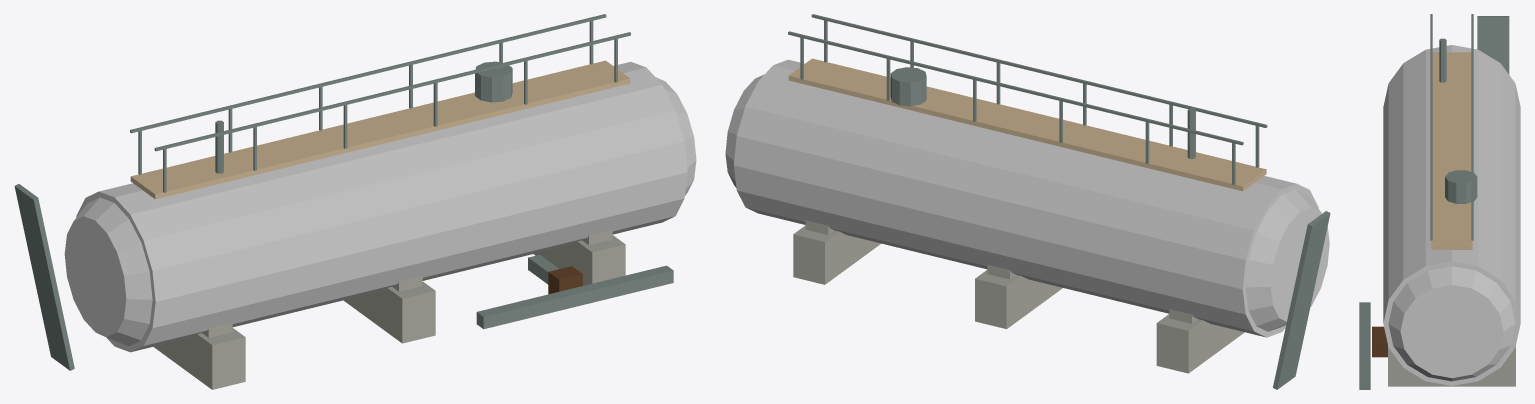
File: SM_TanqueCombustible_v2_LOD0.fbx
The picture shows the model from 3 angles, left to right: view 1: azimuth 30°, elevation 25°; view 2: azimuth 150°, elevation 25°; view 3: azimuth 270°, elevation 25°; orthographic projection. The views are drawn at different scales.
Parts seen in each view (by area): view 1: SM_bloques.tanque_combustible_v2_LOD0; view 2: SM_bloques.tanque_combustible_v2_LOD0; view 3: SM_bloques.tanque_combustible_v2_LOD0.
Part boxes in pixels (box(x1,y1,x2,y2)): SM_bloques.tanque_combustible_v2_LOD0: box(14, 14, 696, 389); SM_bloques.tanque_combustible_v2_LOD0: box(725, 14, 1330, 389); SM_bloques.tanque_combustible_v2_LOD0: box(1359, 14, 1520, 389).
Bounding box in the file's own units: 12.98 × 4.7 × 3.53.
